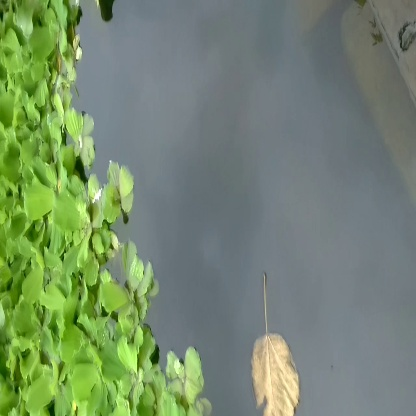leaf: (240, 275, 313, 416)
